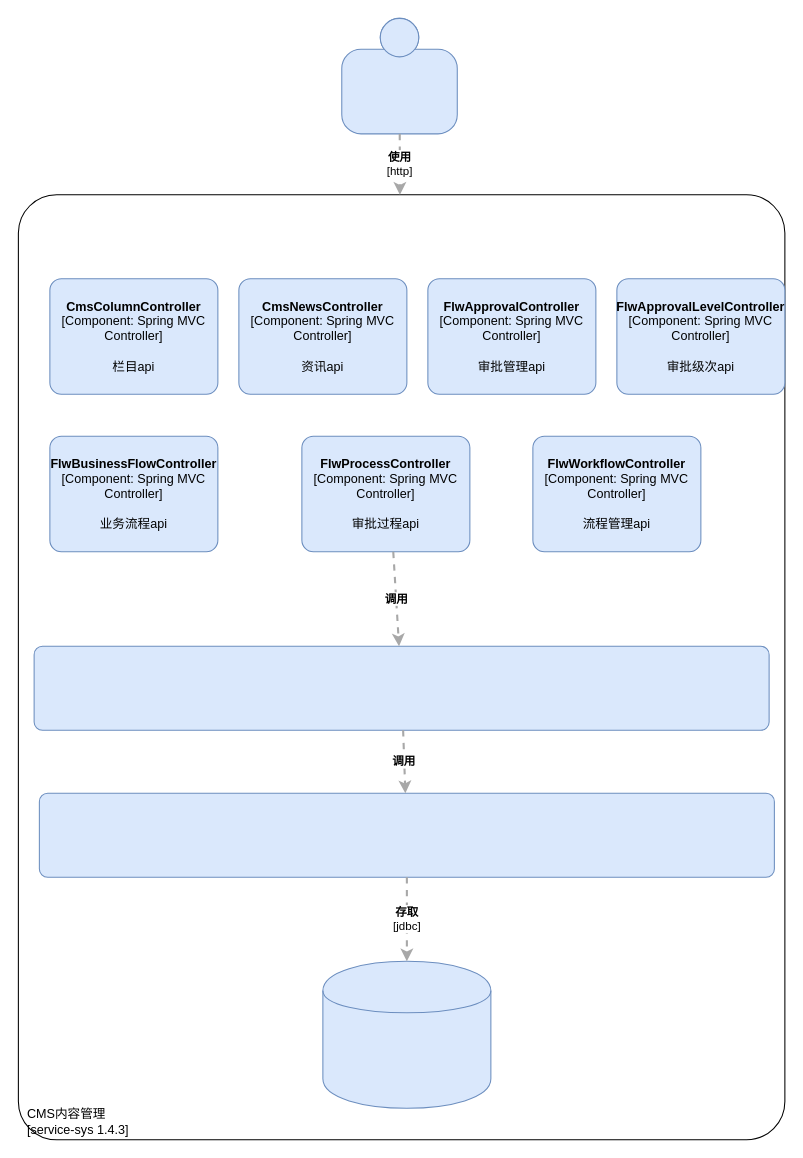
Image size: 803x1158. Some labels were removed from this diagram. Here are the shapes that lost their labels. From the top down, the box of each, then its label:
(341, 17, 457, 134): 货办管理员 [Person]
(33, 645, 769, 730): Service层 [Component: Service] 拆分组件
(38, 792, 774, 877): Dao层 [Component: mapper] 拆分组件
(322, 960, 491, 1108): CARGODB [Container: Oracle 12c] 业务数据库实例
